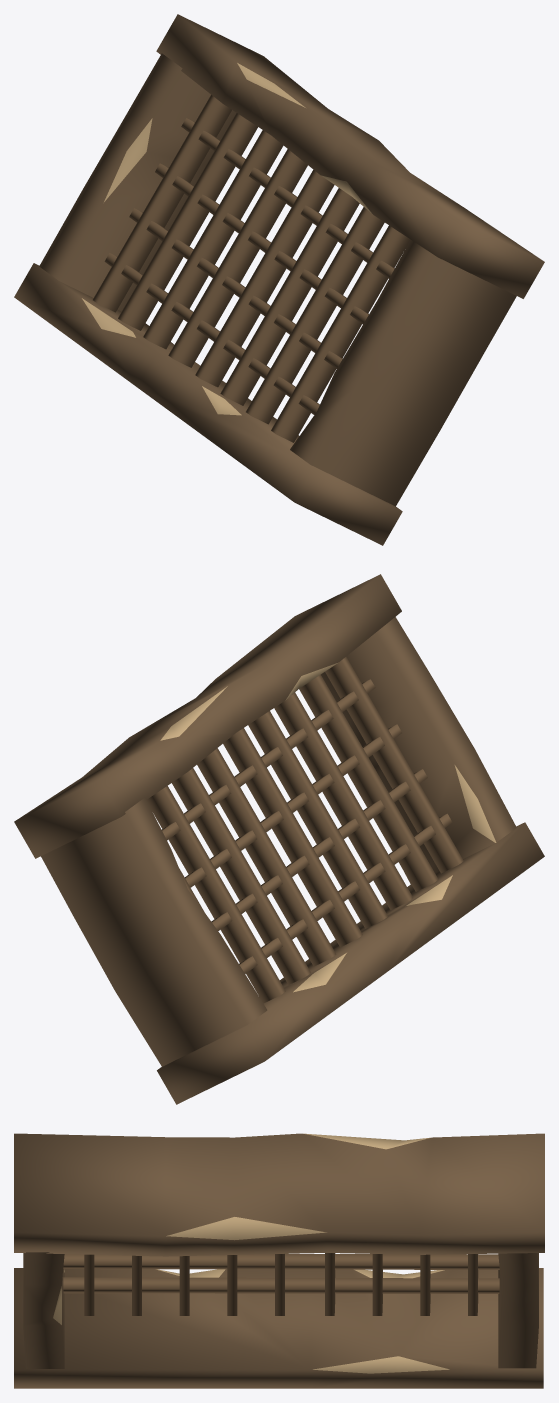
File: rpgpp_ag_roof_01d_half_window_02.fbx
3 views of the same model, one above another, from view 1: azimuth 30°, elevation 25°; view 2: azimuth 150°, elevation 25°; view 3: azimuth 270°, elevation 25° (orthographic). The views are drawn at different scales.
Parts seen in each view (by area): view 1: rpgpp_ag_roof_01d_half_window_02; view 2: rpgpp_ag_roof_01d_half_window_02; view 3: rpgpp_ag_roof_01d_half_window_02.
Part boxes in pixels (bbox=[...]): rpgpp_ag_roof_01d_half_window_02: bbox=[14, 14, 544, 545]; rpgpp_ag_roof_01d_half_window_02: bbox=[14, 574, 544, 1104]; rpgpp_ag_roof_01d_half_window_02: bbox=[14, 1133, 544, 1388].
Bounding box in the file's own units: 1.19 × 1.4 × 2.32.
